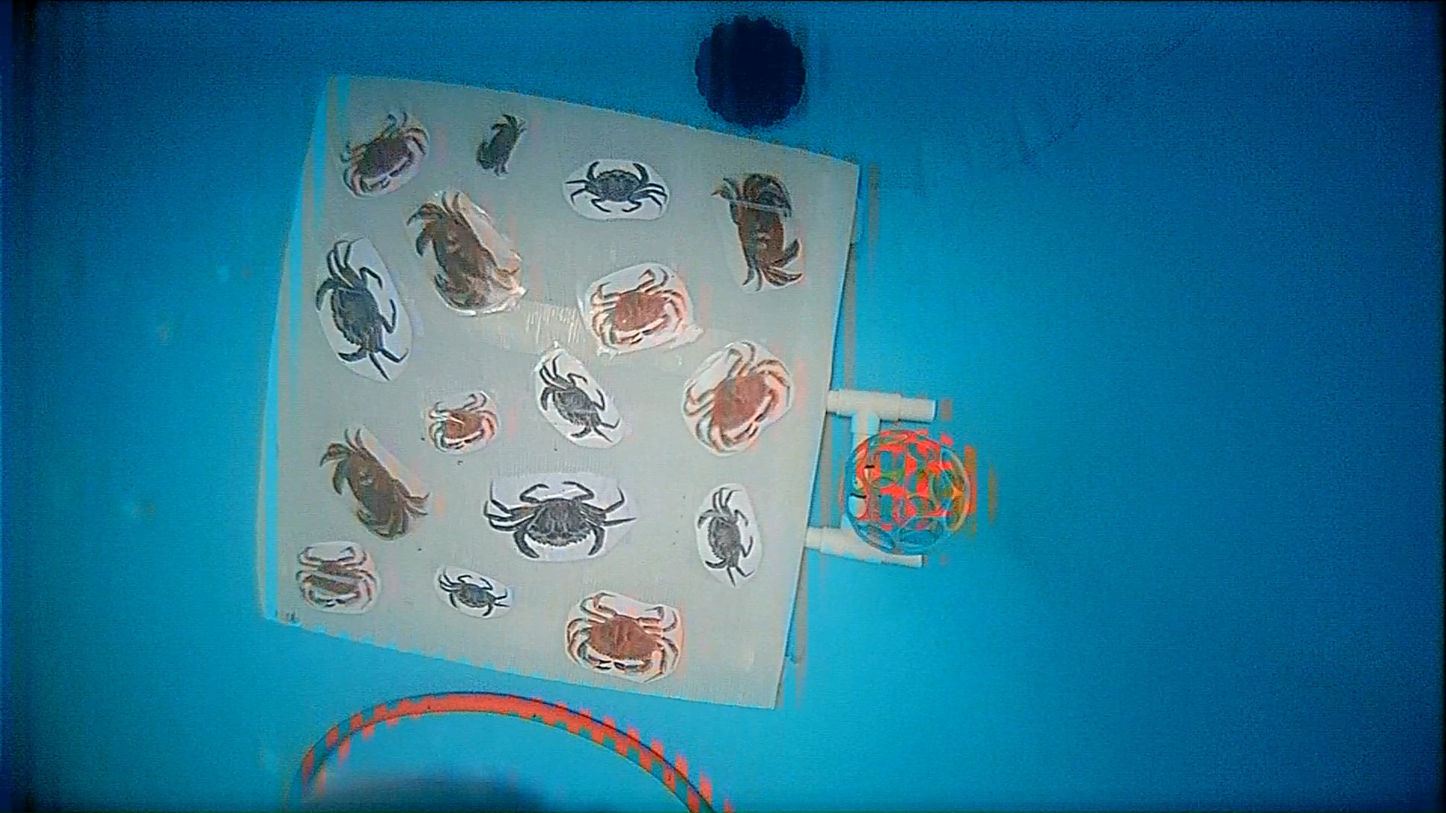GreenCrab: (316, 241, 405, 379), (484, 481, 631, 557), (539, 358, 617, 439), (698, 489, 752, 586), (565, 161, 666, 212), (439, 574, 508, 617)
